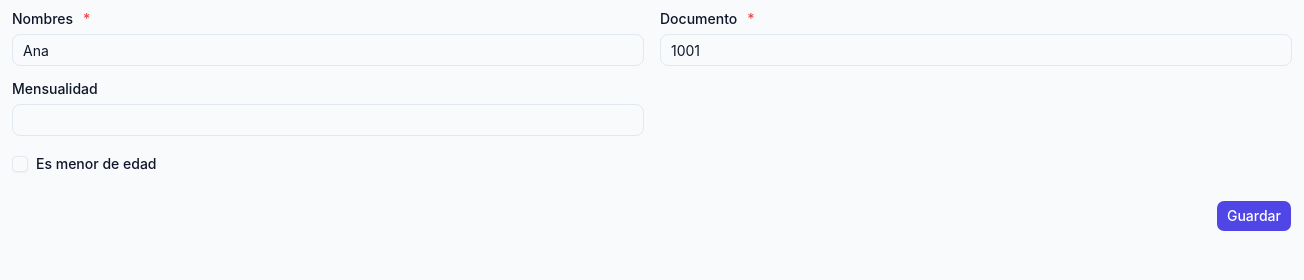
Scenario: StudentForm — unicidad del documento (async) › en edición, NO permite tomar el documento de otro estudiante
The width and height of the screenshot is (1304, 280).
Replace the text in the field labelled "Documento *" with "2002": x=976, y=50 x1=660 y1=34 x2=1292 y2=66
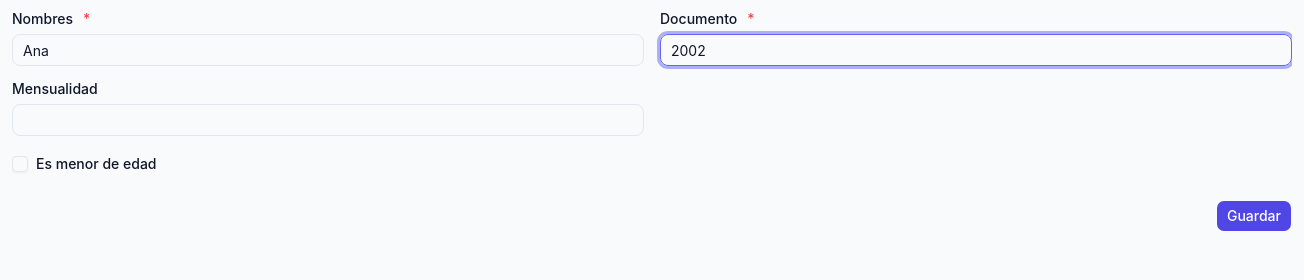
Click the button "Guardar": x=1254, y=216 x1=1216 y1=200 x2=1292 y2=232
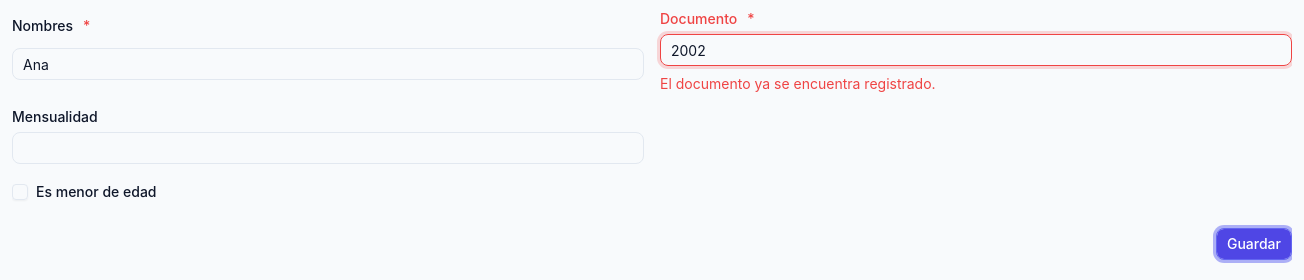
Result: the text "El documento ya se encuentra registrado." is shown at x1=660 y1=75 x2=936 y2=92
